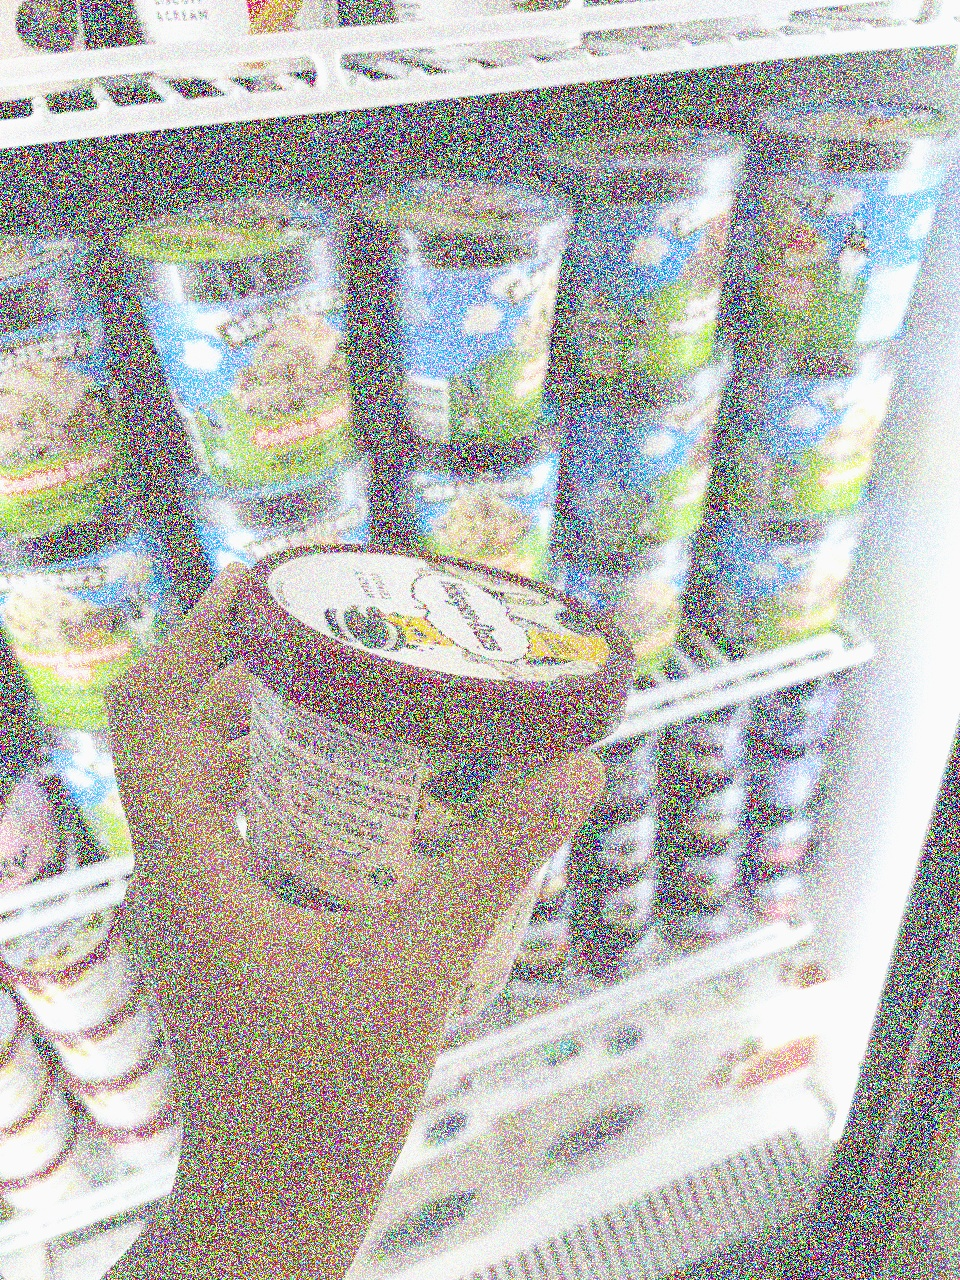Haagen-Dazs IceCream Tub: (223, 536, 635, 1060)
